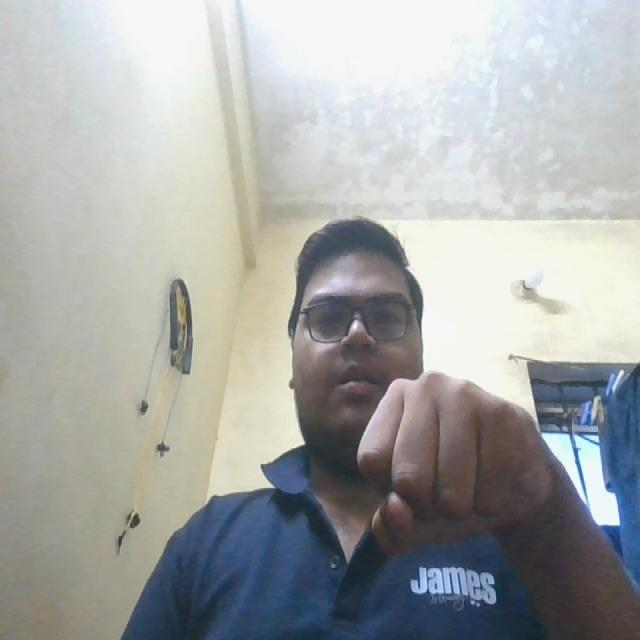Yes: (351, 344, 559, 574)
